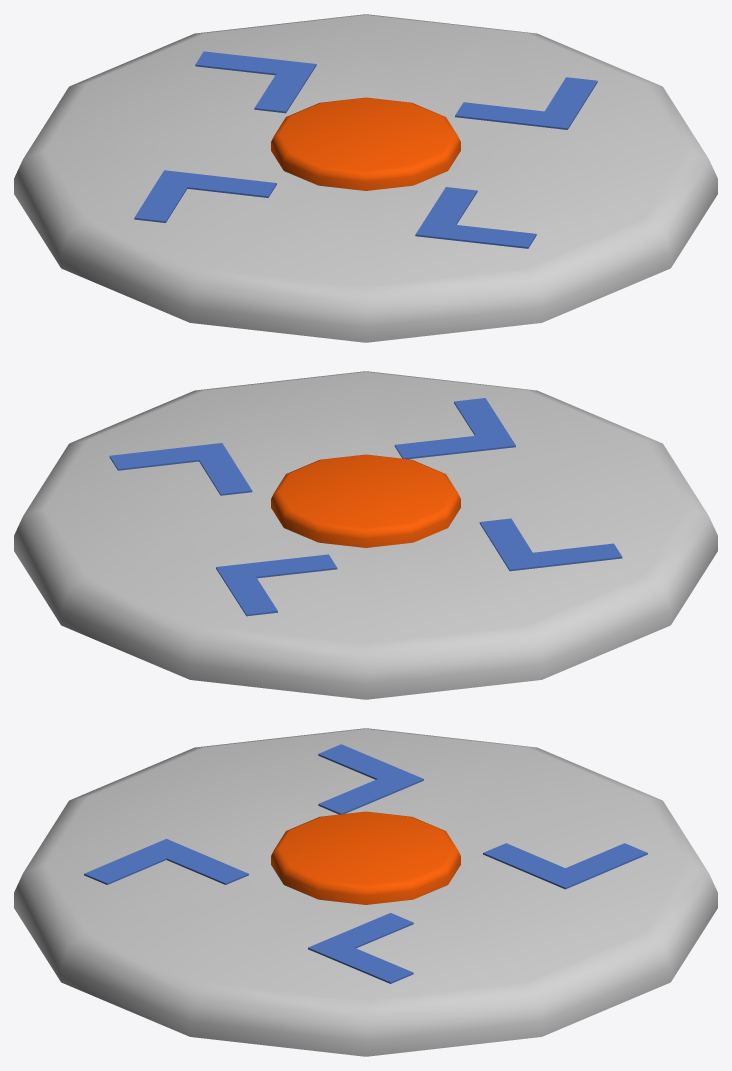
File: Disk_R.fbx
3 renders of one model, top to bottom at view 1: azimuth 30°, elevation 25°; view 2: azimuth 150°, elevation 25°; view 3: azimuth 270°, elevation 25°, orthographic.
Visible parts, largest first — view 1: Disk_R; view 2: Disk_R; view 3: Disk_R.
Boxes of the visible parts, box(x1,y1,x2,y2) form: Disk_R: box(14, 14, 717, 342); Disk_R: box(14, 371, 717, 699); Disk_R: box(14, 728, 717, 1056).
Size of the model in its own units: 770 by 72.09 by 770.
